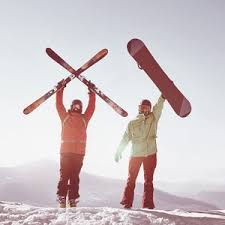skis: (24, 47, 129, 119), (125, 37, 191, 118)
